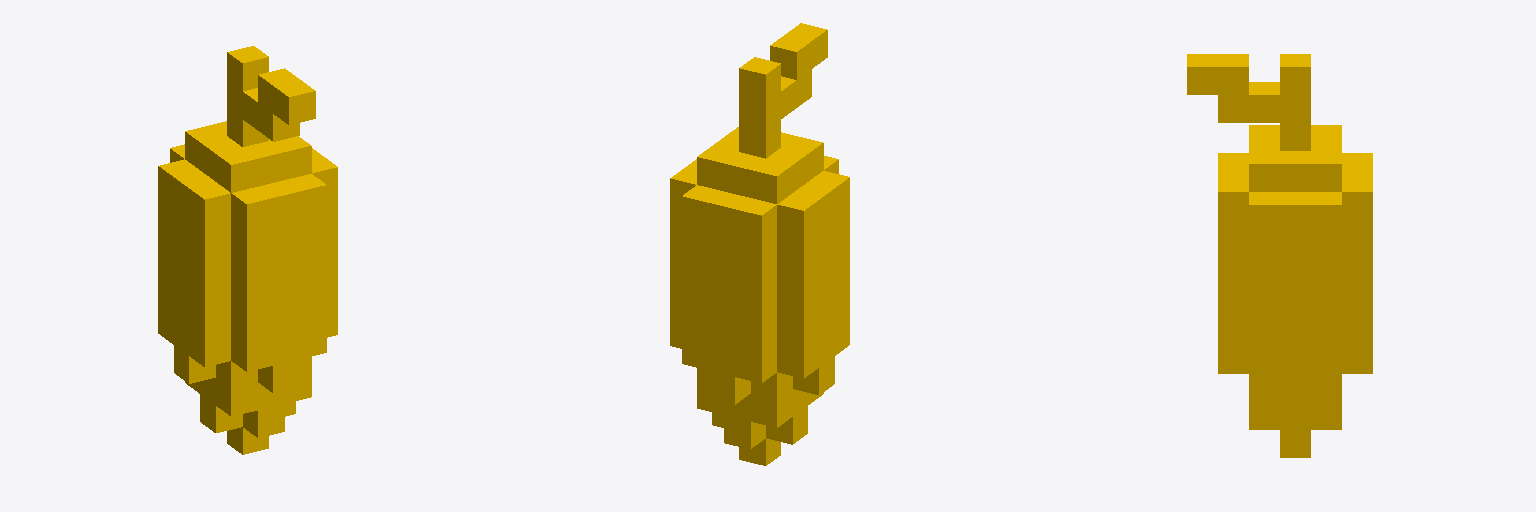
3 renders of one model, left to right at view 1: azimuth 30°, elevation 25°; view 2: azimuth 150°, elevation 25°; view 3: azimuth 270°, elevation 25°, orthographic.
Parts seen in each view (by area): view 1: object 1; view 2: object 1; view 3: object 1.
Boxes of the visible parts, <box> form: object 1: <box>158,46,337,454</box>; object 1: <box>670,23,849,465</box>; object 1: <box>1187,54,1372,457</box>.
Size of the model in its own units: 0.5 by 1.4 by 0.6.
1 materials, 1 textured.